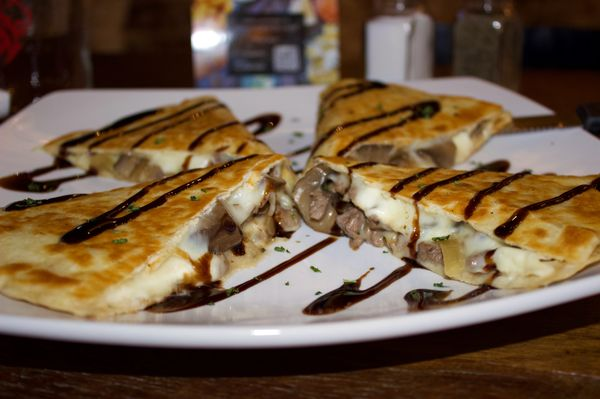soup: (292, 79, 599, 291), (1, 142, 303, 319), (293, 80, 514, 274)
